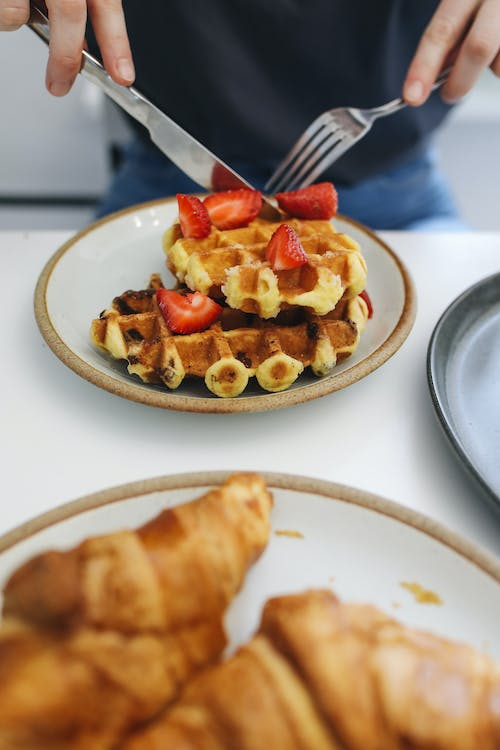knife: (24, 0, 290, 224)
